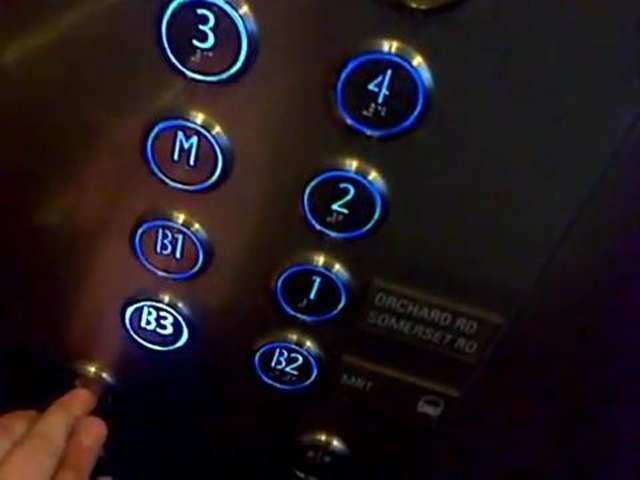1: (269, 253, 358, 327)
2: (297, 157, 394, 243)
3: (158, 1, 260, 87)
4: (335, 33, 438, 144)
B1: (130, 209, 216, 281)
B2: (241, 330, 328, 400)
B3: (114, 292, 198, 354)
M: (139, 112, 234, 194)
